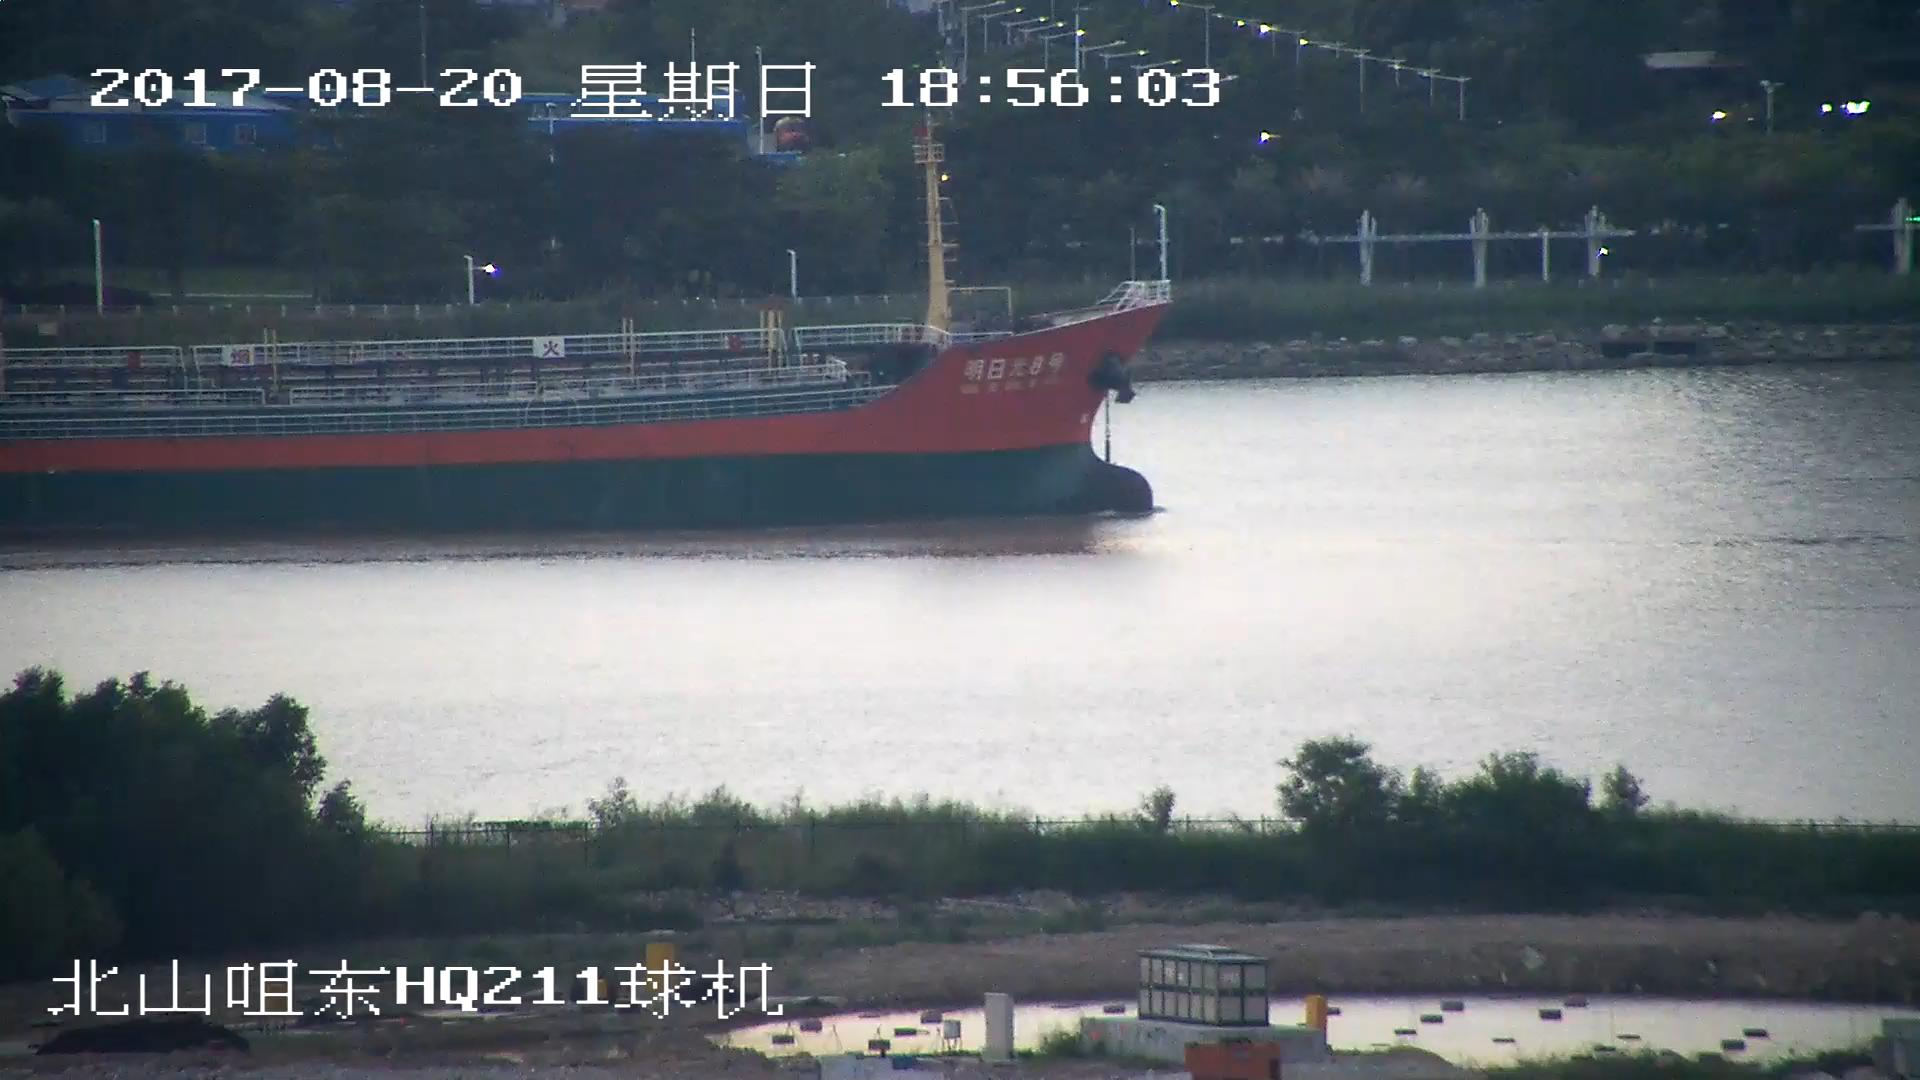general cargo ship: (1, 132, 1169, 532)
